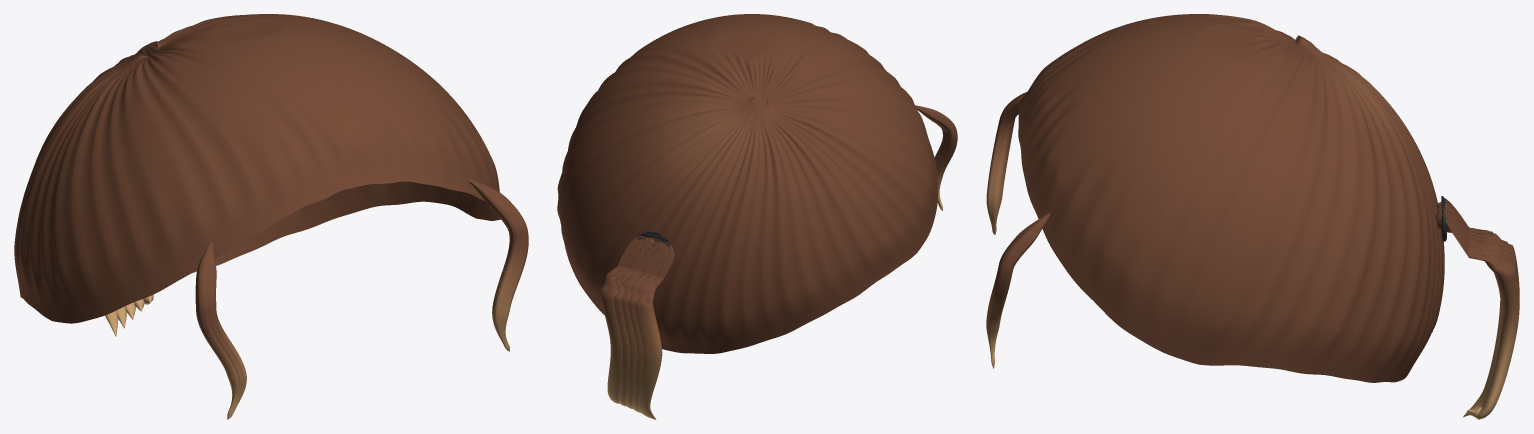
The model's file is ponytail-bucket-ombre.glb.
3 views of the same model, side by side, from view 1: azimuth 30°, elevation 25°; view 2: azimuth 150°, elevation 25°; view 3: azimuth 270°, elevation 25° (orthographic). The views are drawn at different scales.
Parts seen in each view (by area): view 1: 226 hair / Hair / crisp pulled roots220.002, 226 hair / Hair / sculpted front locks222.002, 226 hair / Hair / chestnut226.001; view 2: 226 hair / Hair / crisp pulled roots220.002, 226 hair / Hair / chestnut226.001, 226 hair / Hair / sculpted front locks222.002; view 3: 226 hair / Hair / crisp pulled roots220.002, 226 hair / Hair / chestnut226.001, 226 hair / Hair / sculpted front locks222.002.
Part boxes in pixels (left/top/right/bottom): 226 hair / Hair / crisp pulled roots220.002: left=14, top=14, right=500, bottom=323; 226 hair / Hair / sculpted front locks222.002: left=195, top=179, right=528, bottom=419; 226 hair / Hair / chestnut226.001: left=105, top=294, right=153, bottom=336; 226 hair / Hair / crisp pulled roots220.002: left=557, top=14, right=938, bottom=353; 226 hair / Hair / chestnut226.001: left=600, top=236, right=674, bottom=419; 226 hair / Hair / sculpted front locks222.002: left=915, top=105, right=957, bottom=210; 226 hair / Hair / crisp pulled roots220.002: left=1018, top=14, right=1444, bottom=382; 226 hair / Hair / chestnut226.001: left=1436, top=198, right=1519, bottom=419; 226 hair / Hair / sculpted front locks222.002: left=986, top=92, right=1050, bottom=368.
Size of the model in its own units: 0.7726 by 0.6856 by 0.8569.
4 materials, 3 textured.
